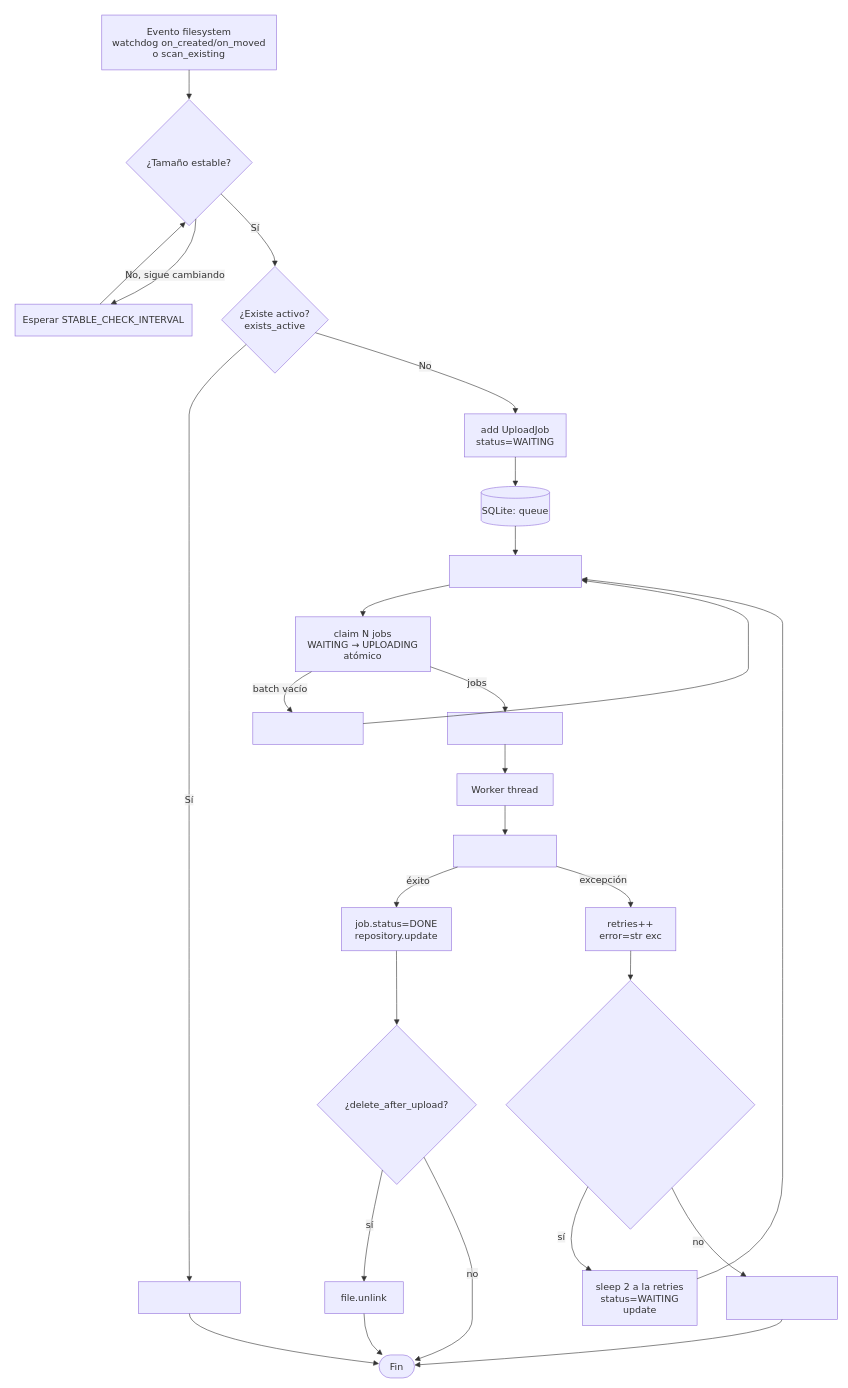
Image size: 848x1388. Some labels were removed from this diagram. The centre of each missing label's shape, as x and y in pixels:
"job.status=FAILED update" goes at [782,1298].
"ProcessQueue.run loop" goes at [515,571].
"Skip: ya en cola" goes at [189,1297].
"uploader.upload" goes at [505,851].
"wait poll_interval" goes at [307,728].
"WorkerPool.submit" goes at [505,728].
"¿retries menor que retry_attempts?" goes at [630,1104].
